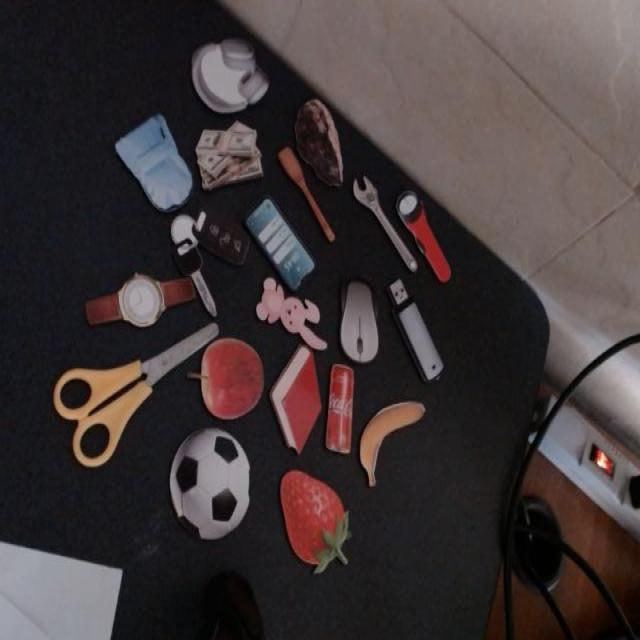Other Objects: (52, 320, 219, 467), (155, 180, 255, 313), (111, 104, 200, 231), (168, 429, 250, 539), (381, 273, 447, 389), (390, 181, 453, 295), (243, 193, 315, 292), (274, 141, 337, 250), (186, 336, 264, 420), (352, 175, 418, 272), (353, 177, 417, 271), (191, 38, 270, 113), (84, 274, 194, 327), (277, 145, 335, 241), (359, 402, 425, 486), (255, 276, 327, 351), (395, 189, 451, 281), (195, 119, 263, 191), (294, 97, 343, 187), (340, 281, 379, 363), (324, 363, 355, 452), (324, 363, 354, 453)
